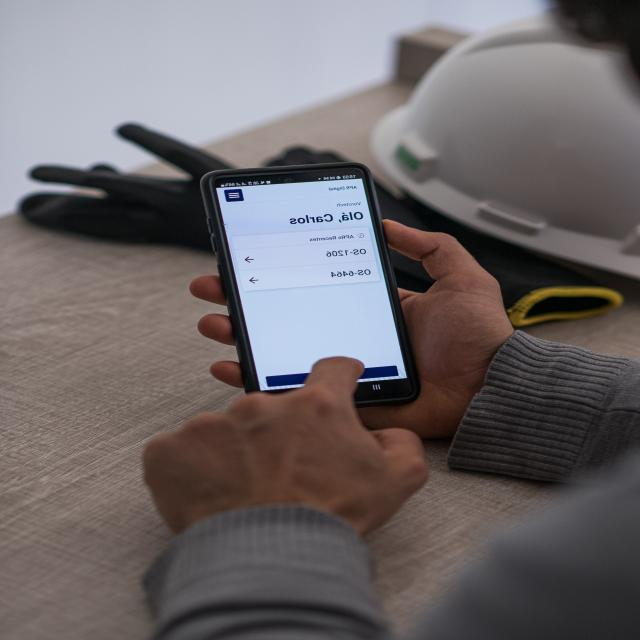capacete: (362, 0, 640, 285)
